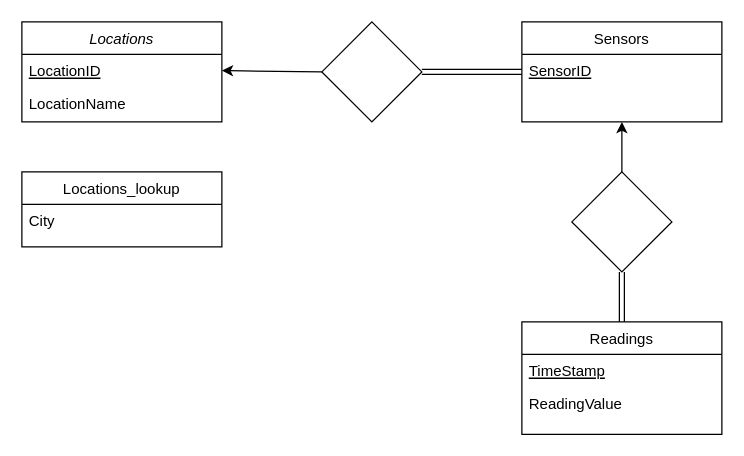
This 744x456 diagram has some shape labels left out. The shapes that lost their labels are listed below. From the top down, each one's centre as x and y in pixels, then its label:
At (371,71): "located in".
At (621,221): "from".
